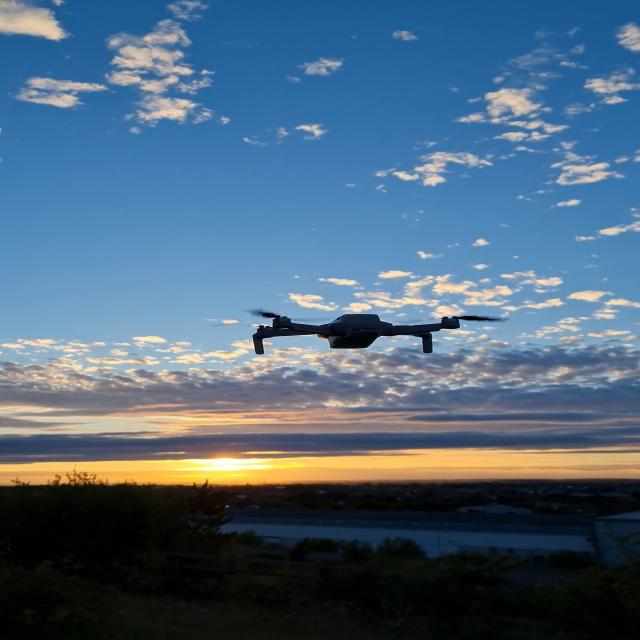Drone: (233, 293, 501, 388)
